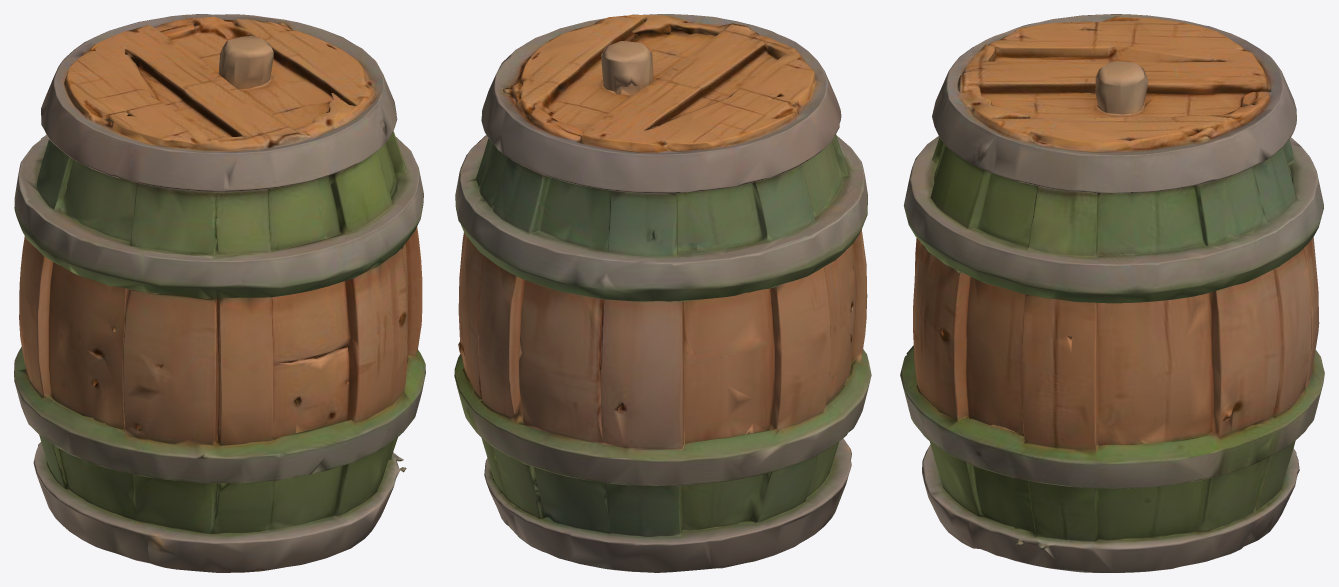
Rendered from barrel.glb.
The picture shows the model from 3 angles, left to right: view 1: azimuth 30°, elevation 25°; view 2: azimuth 150°, elevation 25°; view 3: azimuth 270°, elevation 25°; orthographic projection.
Visible parts, largest first — view 1: tripo_node_0059e4e2-2b29-41b9-8b35-54309abff9f5; view 2: tripo_node_0059e4e2-2b29-41b9-8b35-54309abff9f5; view 3: tripo_node_0059e4e2-2b29-41b9-8b35-54309abff9f5.
Boxes of the visible parts, x1,y1,x2,y2 form: tripo_node_0059e4e2-2b29-41b9-8b35-54309abff9f5: (14,14,425,572); tripo_node_0059e4e2-2b29-41b9-8b35-54309abff9f5: (454,14,871,572); tripo_node_0059e4e2-2b29-41b9-8b35-54309abff9f5: (900,14,1324,572).
Size of the model in its own units: 0.8186 by 1 by 0.8271.
Materials: 1 (1 with a texture image).
